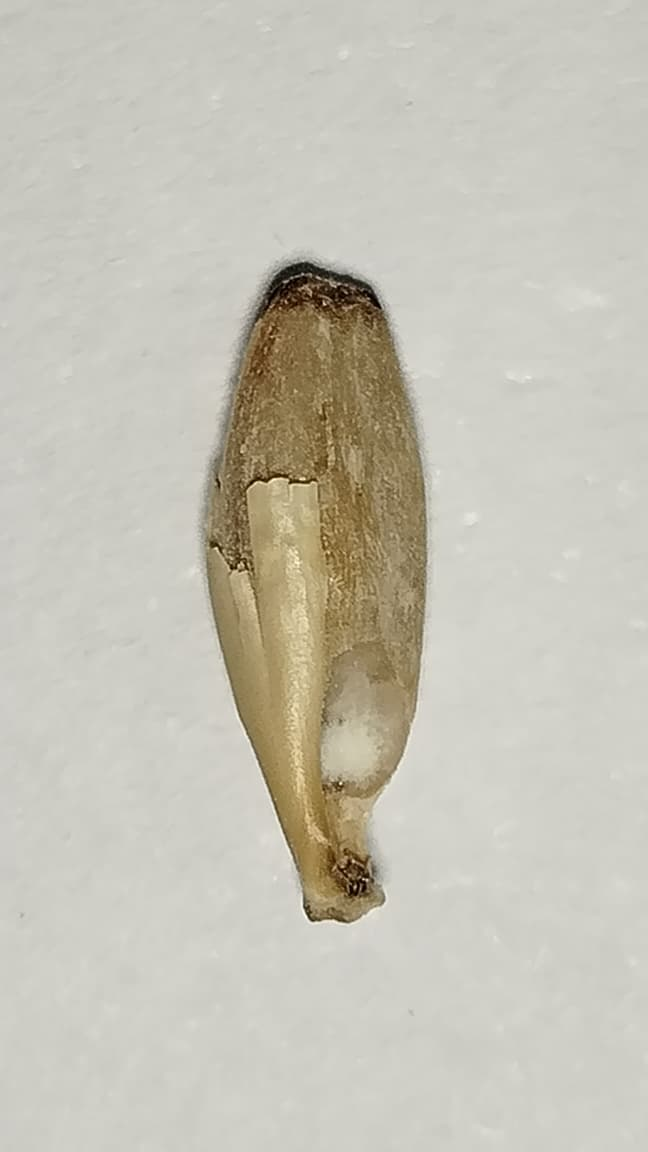damage: (222, 273, 426, 919)
molddamage: (320, 645, 409, 799)
staindamage: (253, 270, 386, 334)
